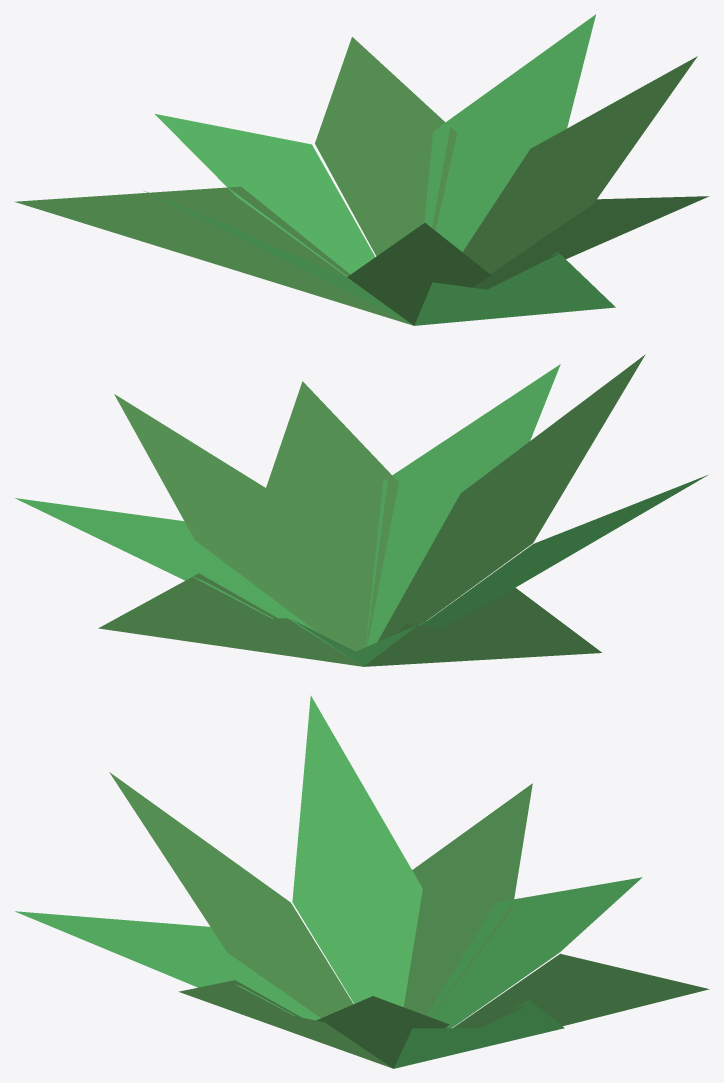
Rendered from cove_fern.glb.
3 views of the same model, one above another, from view 1: azimuth 30°, elevation 25°; view 2: azimuth 150°, elevation 25°; view 3: azimuth 270°, elevation 25° (orthographic). The views are drawn at different scales.
Parts seen in each view (by area): view 1: Fern; view 2: Fern; view 3: Fern.
Boxes of the visible parts, bbox=[...] form: Fern: bbox=[14, 14, 709, 325]; Fern: bbox=[15, 354, 707, 666]; Fern: bbox=[15, 695, 709, 1068].
Bounding box in the file's own units: 2.11 × 0.8405 × 2.28.
